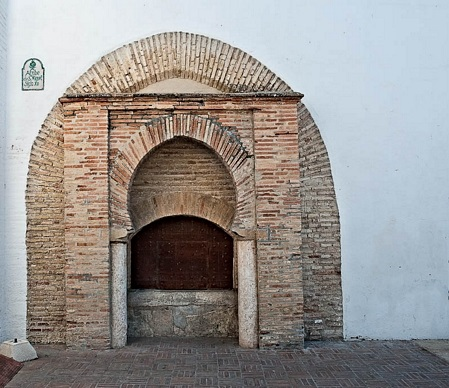arco-herradura: (119, 131, 248, 251)
